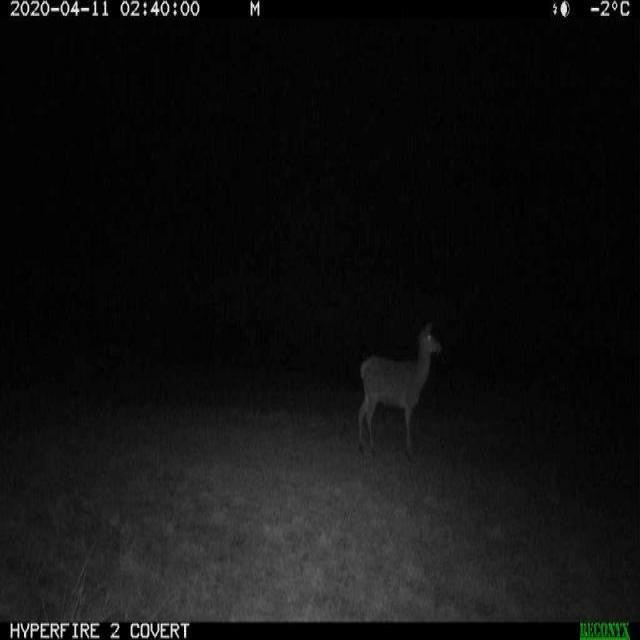deer: (352, 312, 448, 464)
